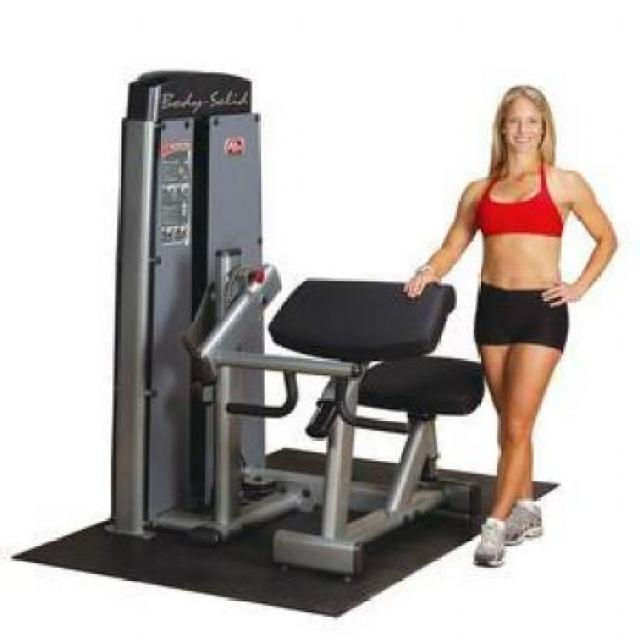arm curl machine: (109, 263, 486, 579)
